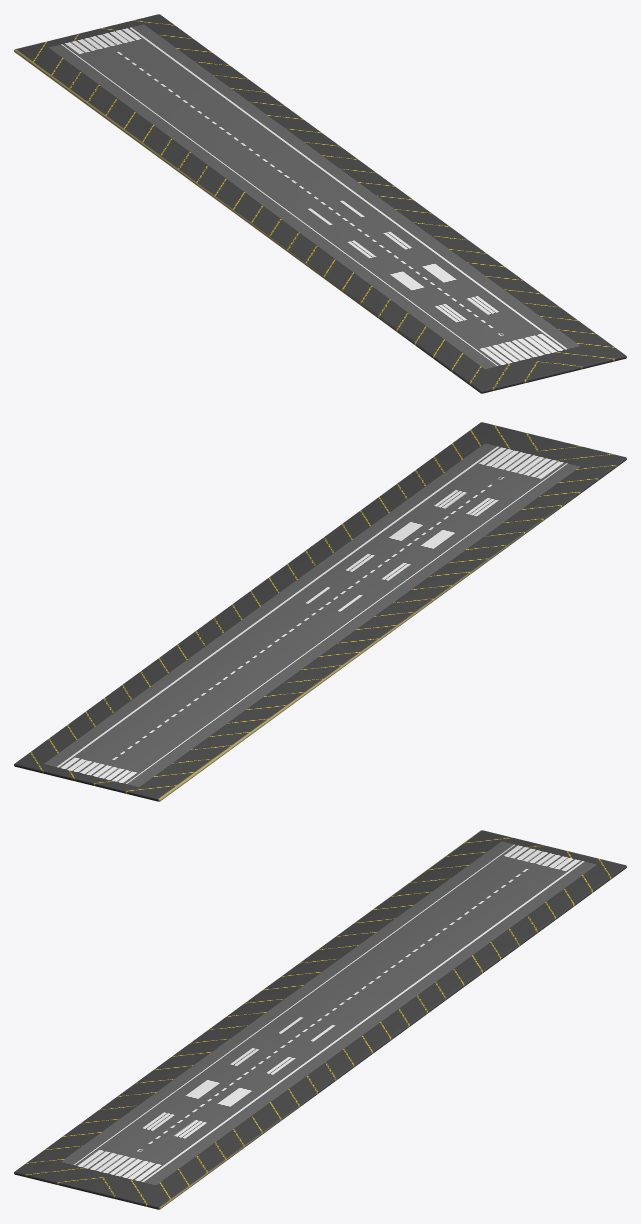
The model's file is Runway.glb.
3 views of the same model, one above another, from view 1: azimuth 30°, elevation 25°; view 2: azimuth 150°, elevation 25°; view 3: azimuth 330°, elevation 25° (orthographic).
Parts seen in each view (by area): view 1: LandingStrip; view 2: LandingStrip; view 3: LandingStrip.
Boxes of the visible parts, x1=… form: LandingStrip: x1=14, y1=14, x2=626, y2=393; LandingStrip: x1=14, y1=422, x2=626, y2=801; LandingStrip: x1=14, y1=830, x2=626, y2=1209.
Bounding box in the file's own units: 10.12 × 0.2184 × 55.96.
1 material, 1 textured.
